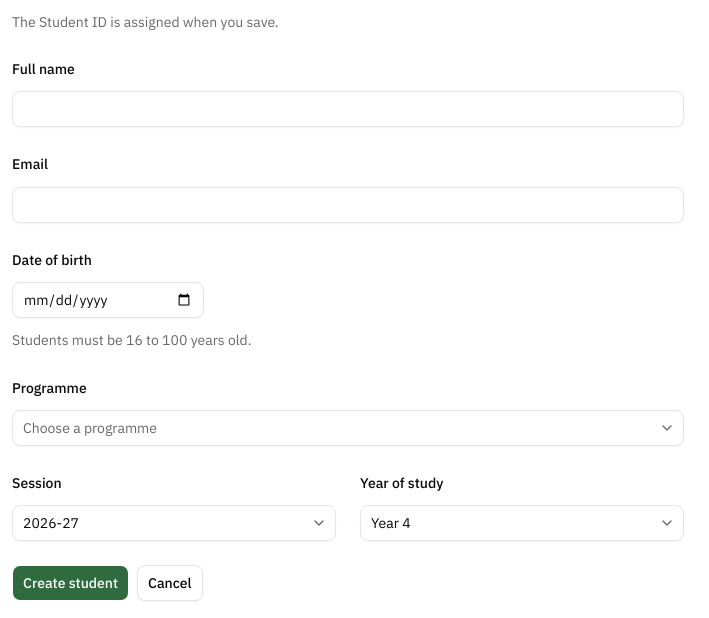
it: new student form: validation › offers only the years the chosen programme runs for, and clamps the year when it shrinks
Click the dropdown labelled "programme" at (90, 428), box [12,410,684,446]
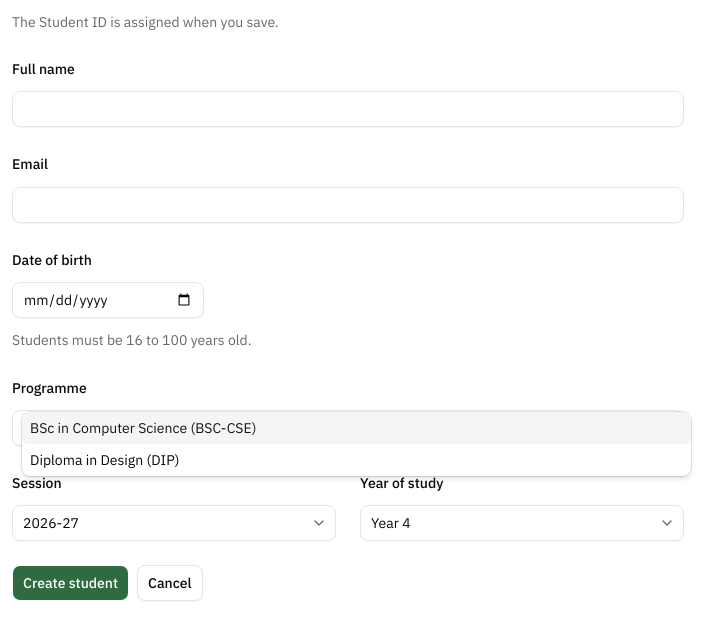
Click the option "Diploma in Design (DIP)" at (105, 460), box [30,451,179,469]
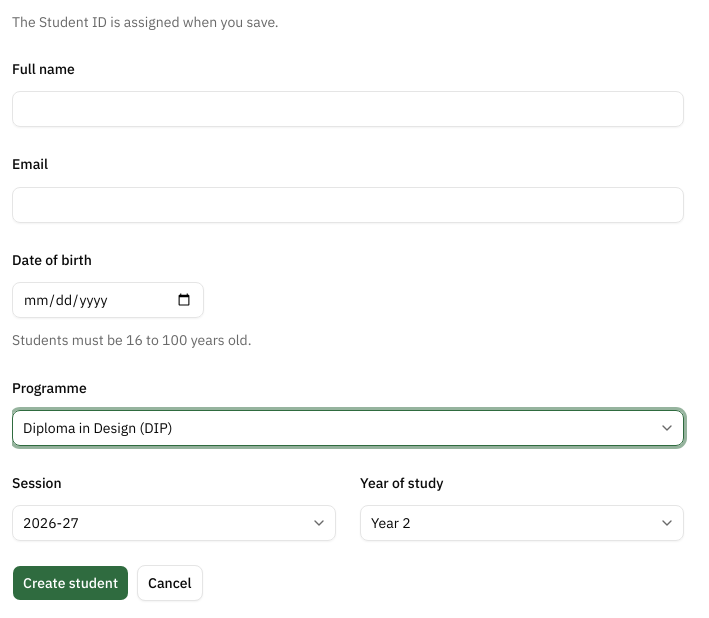
expect the dropdown named "Year of study" reads "Year 2": met
Click the dropdown named "Year of study" at (387, 523), box [360,505,684,541]
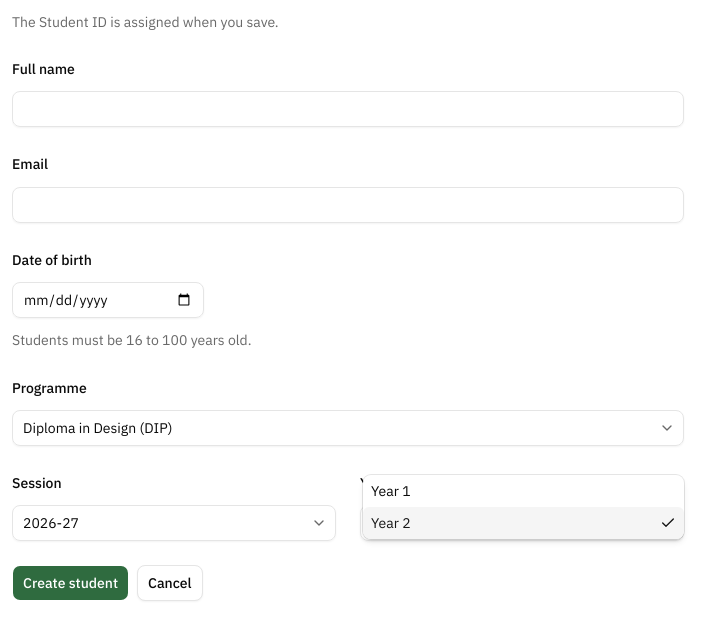
expect the options read "Year 1", "Year 2", in this order: met, box [371,482,411,500]; [363,507,684,539]
